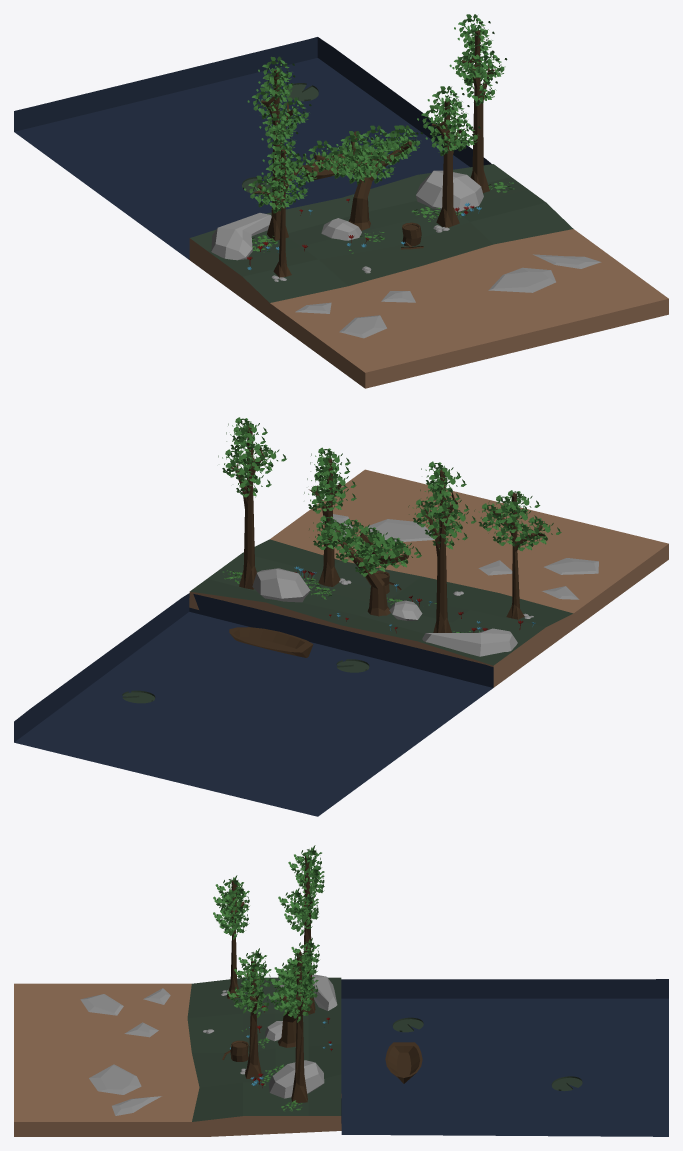
Rendered from FLORESTA 1 100% OFICIAL.fbx.
3 renders of one model, top to bottom at view 1: azimuth 30°, elevation 25°; view 2: azimuth 150°, elevation 25°; view 3: azimuth 270°, elevation 25°, orthographic. The views are drawn at different scales.
Parts seen in each view (by area): view 1: Base, rio, pedra.001, caminhoo, tronco 4, tronco, tronco 2, tronco 5, tronco 3; view 2: rio, Base, pedra.001, caminhoo, barco, tronco 5, tronco 4, tronco, tronco 3, tronco 2; view 3: rio, Base, caminhoo, pedra.001, barco, tronco 4, tronco 2, tronco, tronco 3, tronco 5.
Part boxes in pixels (left/top/right/bottom): Base: left=189, top=164, right=668, bottom=388; rio: left=14, top=37, right=491, bottom=259; pedra.001: left=211, top=170, right=483, bottom=281; caminhoo: left=295, top=254, right=601, bottom=338; tronco 4: left=462, top=30, right=495, bottom=192; tronco: left=314, top=131, right=411, bottom=230; tronco 2: left=431, top=101, right=465, bottom=227; tronco 5: left=261, top=70, right=293, bottom=240; tronco 3: left=253, top=149, right=308, bottom=277; rio: left=14, top=593, right=493, bottom=816; Base: left=189, top=469, right=668, bottom=687; pedra.001: left=252, top=568, right=533, bottom=656; caminhoo: left=321, top=514, right=598, bottom=599; barco: left=229, top=627, right=313, bottom=657; tronco 5: left=424, top=469, right=457, bottom=632; tronco 4: left=230, top=425, right=265, bottom=589; tronco: left=335, top=524, right=408, bottom=616; tronco 3: left=493, top=493, right=545, bottom=619; tronco 2: left=308, top=458, right=341, bottom=586; rio: left=341, top=979, right=668, bottom=1136; Base: left=14, top=977, right=341, bottom=1136; caminhoo: left=80, top=988, right=170, bottom=1115; pedra.001: left=202, top=974, right=337, bottom=1098; barco: left=385, top=1042, right=422, bottom=1083; tronco 4: left=291, top=951, right=307, bottom=1102; tronco 2: left=245, top=961, right=262, bottom=1078; tronco: left=278, top=963, right=309, bottom=1047; tronco 3: left=227, top=880, right=244, bottom=998; tronco 5: left=302, top=855, right=315, bottom=1014.
Bounding box in the file's own units: 1011 × 621 × 2002.
18 materials, 18 textured.
